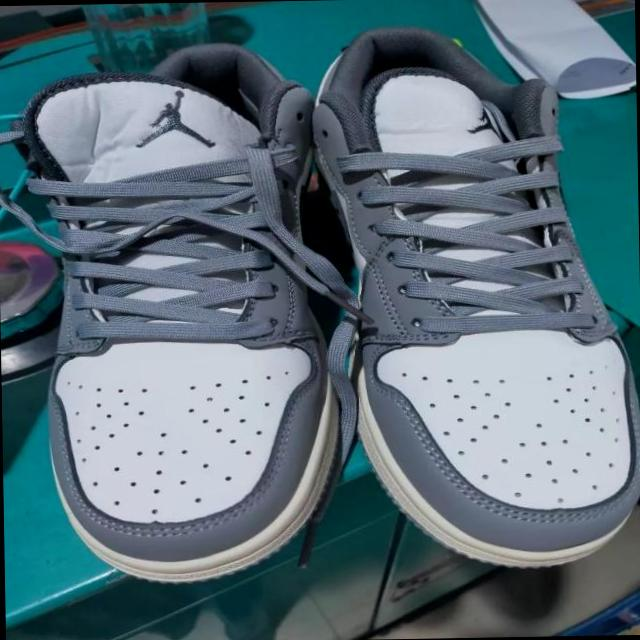nike_fake_jordan: (302, 16, 640, 576), (21, 33, 347, 581)
